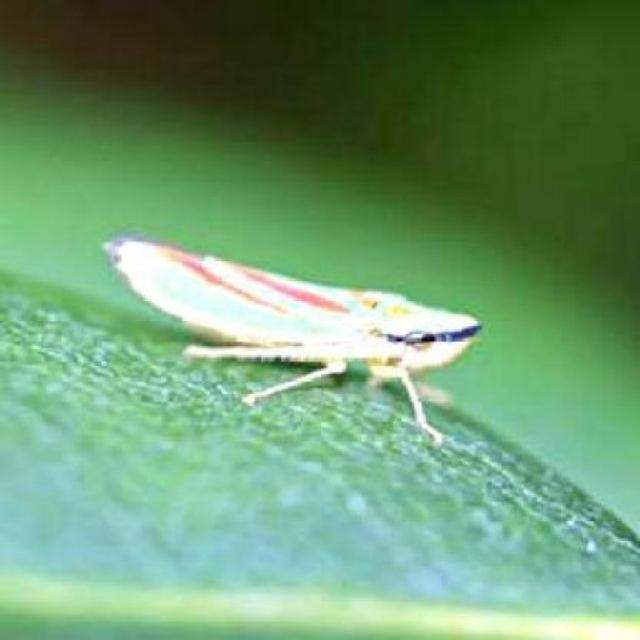green-leafhopper: (108, 225, 482, 409)
